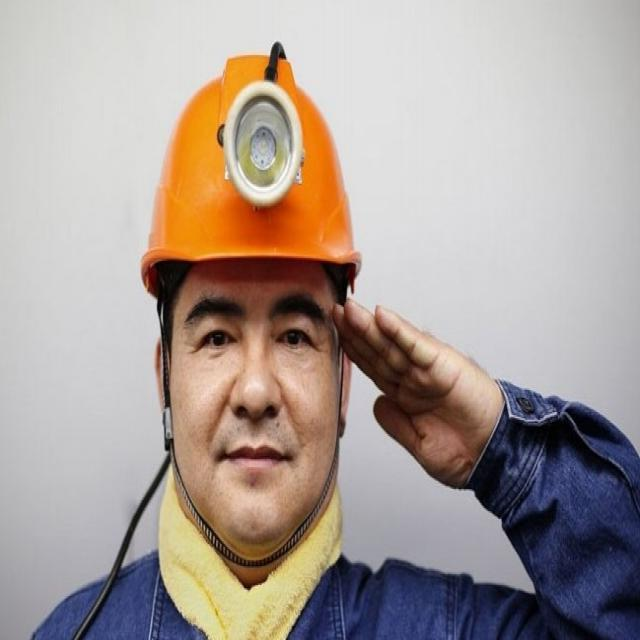safetyhelmet: (138, 54, 372, 535)
